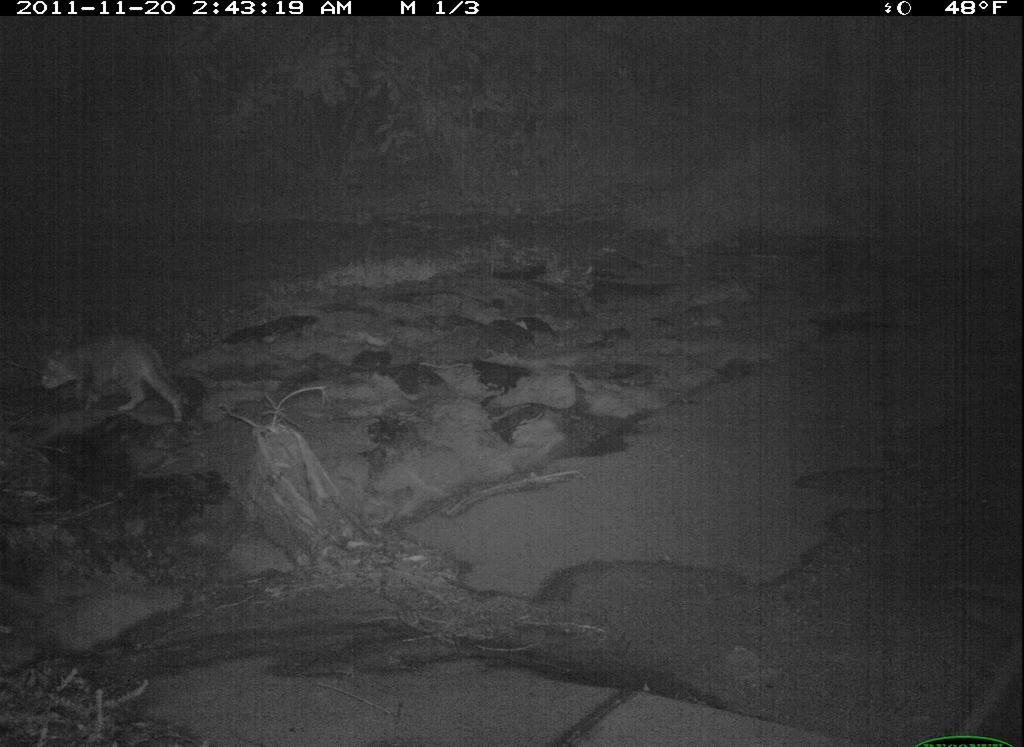cat: (27, 326, 213, 443)
